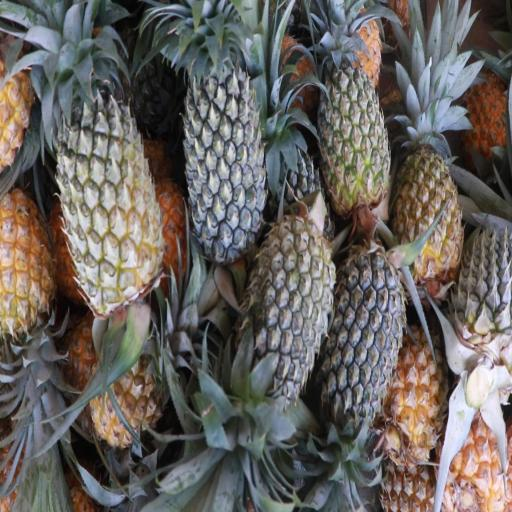------------------------------: (61, 87, 165, 304), (316, 42, 391, 213)
Pineapple - v8 v1: (390, 95, 461, 282), (92, 319, 190, 450), (384, 318, 456, 473), (0, 186, 58, 345)
